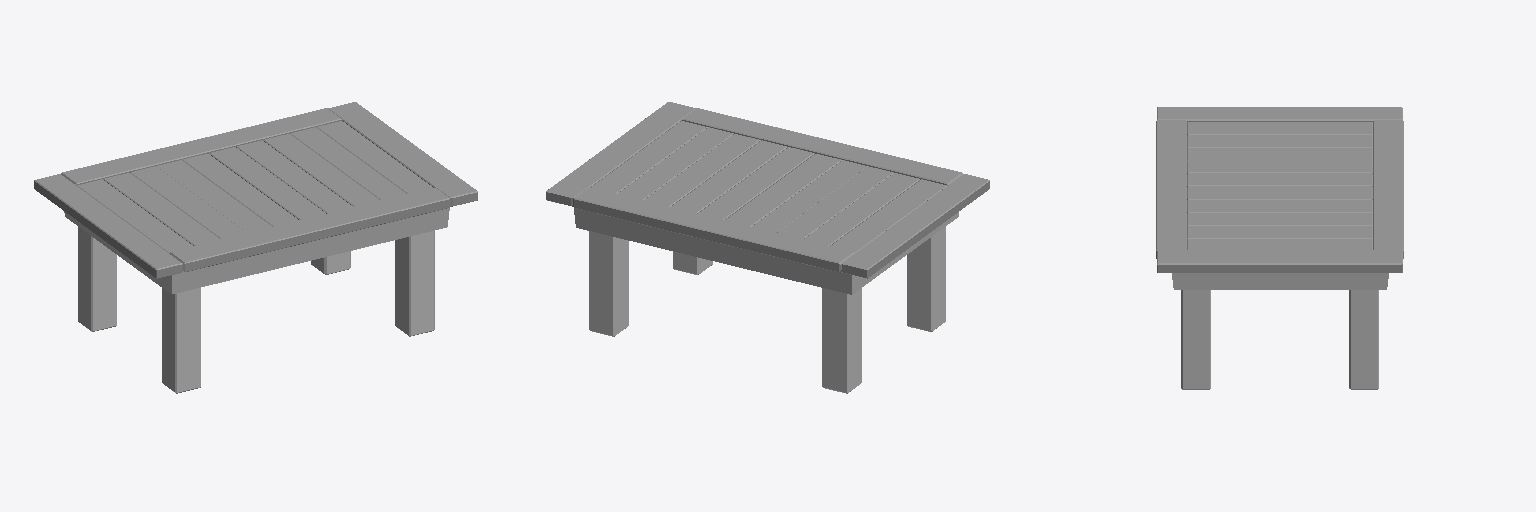
The model's file is table.obj.
3 renders of one model, left to right at view 1: azimuth 30°, elevation 25°; view 2: azimuth 150°, elevation 25°; view 3: azimuth 270°, elevation 25°, orthographic.
Parts seen in each view (by area): view 1: Cube.001, Cube_Cube.002, Cube.005_Cube.006, Cube.002_Cube.003, Cube.003_Cube.004, Cube.004_Cube.005; view 2: Cube.001, Cube_Cube.002, Cube.003_Cube.004, Cube.004_Cube.005, Cube.002_Cube.003, Cube.005_Cube.006; view 3: Cube.001, Cube_Cube.002, Cube.005_Cube.006, Cube.004_Cube.005.
Part boxes in pixels (x1,y1,x2,y2): Cube.001: (34,102,477,278); Cube_Cube.002: (64,208,449,294); Cube.005_Cube.006: (395,231,434,336); Cube.002_Cube.003: (162,288,200,393); Cube.003_Cube.004: (78,227,116,331); Cube.004_Cube.005: (311,251,350,274); Cube.001: (546,102,989,278); Cube_Cube.002: (574,208,958,294); Cube.003_Cube.004: (822,288,861,393); Cube.004_Cube.005: (589,231,628,336); Cube.002_Cube.003: (907,227,945,331); Cube.005_Cube.006: (673,251,712,274); Cube.001: (1156,107,1403,272); Cube_Cube.002: (1172,273,1388,289); Cube.005_Cube.006: (1181,290,1210,389); Cube.004_Cube.005: (1349,290,1378,389).
Size of the model in its own units: 2.41 by 1.01 by 1.6.